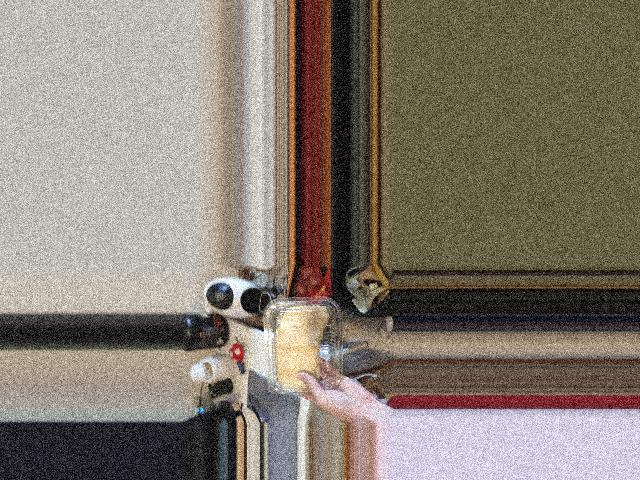cheese: (256, 304, 347, 390)
